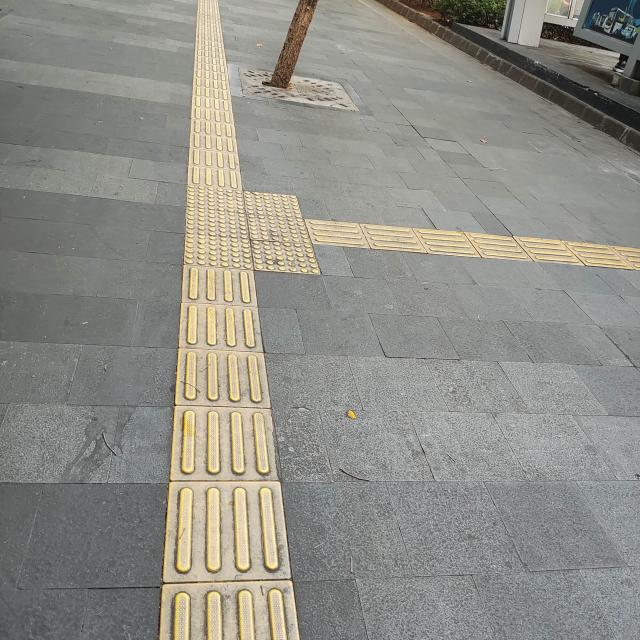lurus: (172, 273, 286, 640), (190, 0, 242, 167)
